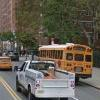buses: (37, 43, 94, 84)
cars: (16, 60, 76, 100)
